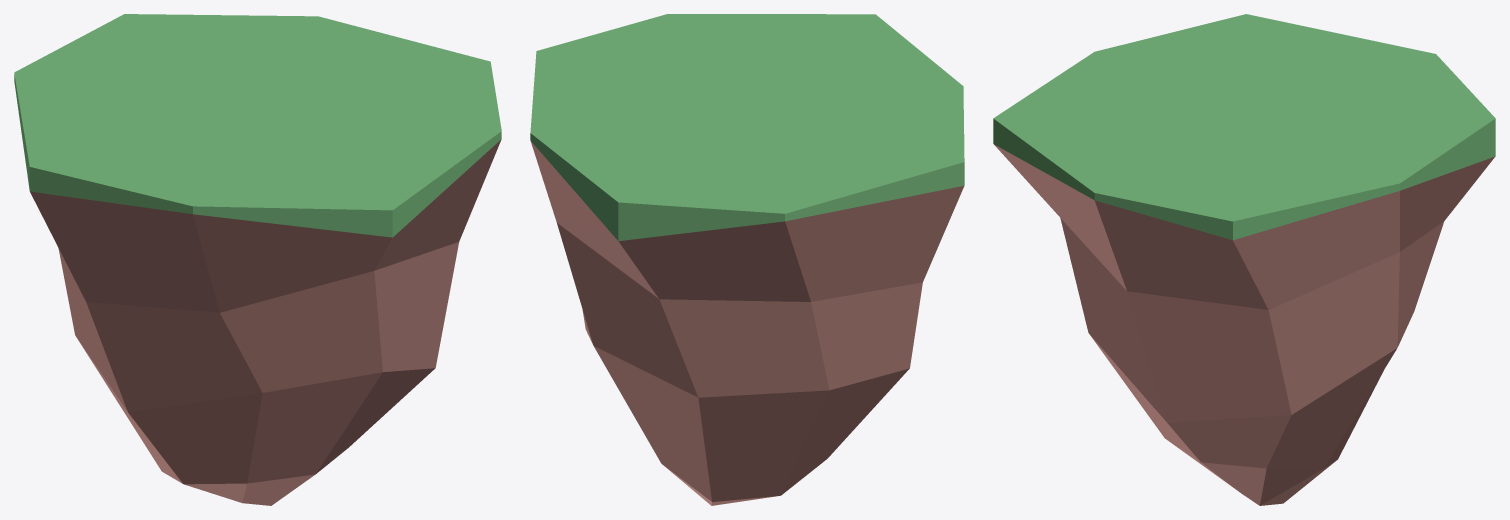
File: island.glb
3 renders of one model, left to right at view 1: azimuth 30°, elevation 25°; view 2: azimuth 150°, elevation 25°; view 3: azimuth 270°, elevation 25°, orthographic. The views are drawn at different scales.
Parts seen in each view (by area): view 1: Island01_Cylinder; view 2: Island01_Cylinder; view 3: Island01_Cylinder.
Boxes of the visible parts, x1,y1,x2,y2 form: Island01_Cylinder: [14, 14, 501, 505]; Island01_Cylinder: [530, 14, 964, 505]; Island01_Cylinder: [993, 14, 1495, 505].
Bounding box in the file's own units: 0.8871 × 0.7545 × 0.9085.
